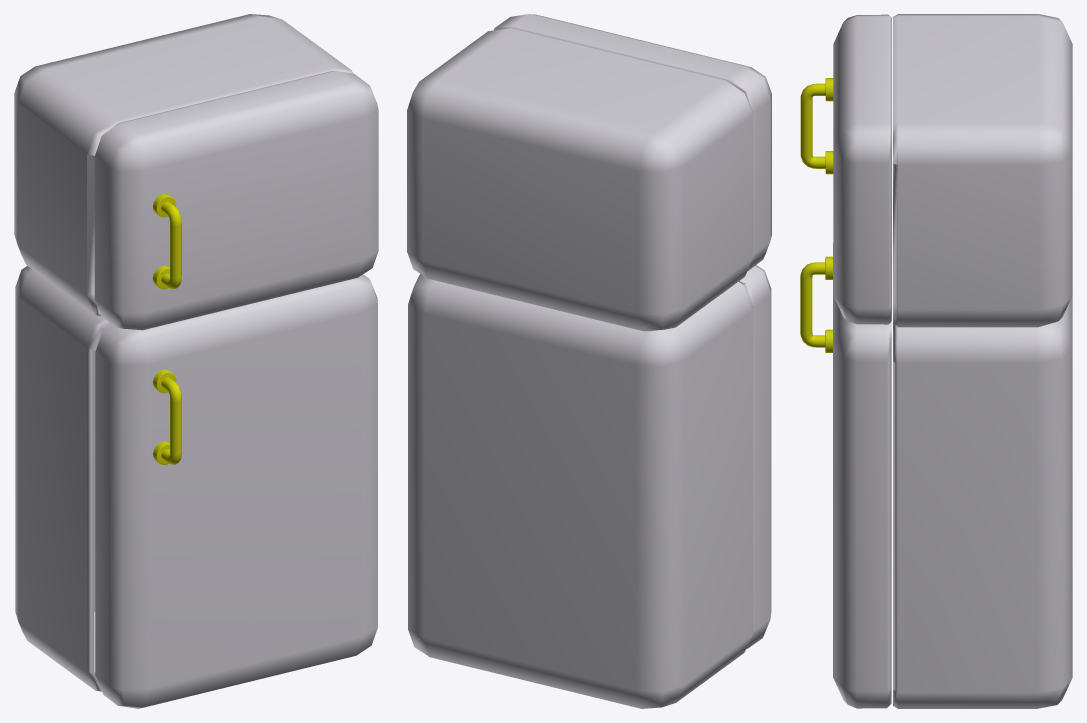
Rendered from Fridge.fbx.
3 renders of one model, left to right at view 1: azimuth 30°, elevation 25°; view 2: azimuth 150°, elevation 25°; view 3: azimuth 270°, elevation 25°, orthographic.
Visible parts, largest first — view 1: fridgeKitchen.001, fridgeKitchen, fridgeKitchen.002; view 2: fridgeKitchen, fridgeKitchen.002, fridgeKitchen.001; view 3: fridgeKitchen, fridgeKitchen.001, fridgeKitchen.002.
Boxes of the visible parts, x1,y1,x2,y2 form: fridgeKitchen.001: (95, 274, 377, 708); fridgeKitchen: (14, 14, 352, 691); fridgeKitchen.002: (94, 71, 378, 330); fridgeKitchen: (407, 28, 753, 708); fridgeKitchen.002: (494, 14, 771, 271); fridgeKitchen.001: (739, 265, 771, 648); fridgeKitchen: (893, 14, 1072, 708); fridgeKitchen.001: (800, 243, 891, 708); fridgeKitchen.002: (800, 14, 891, 324).
Size of the model in its own units: 106 by 213 by 89.83.
